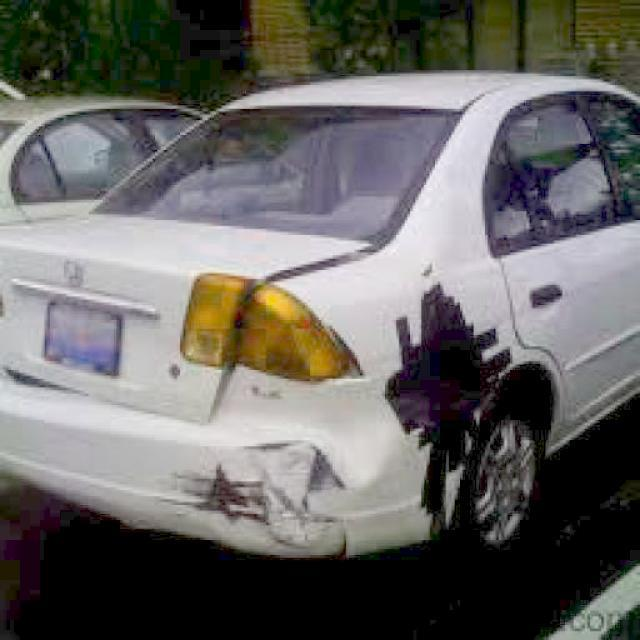car damage: (381, 271, 521, 540), (157, 418, 369, 560)
